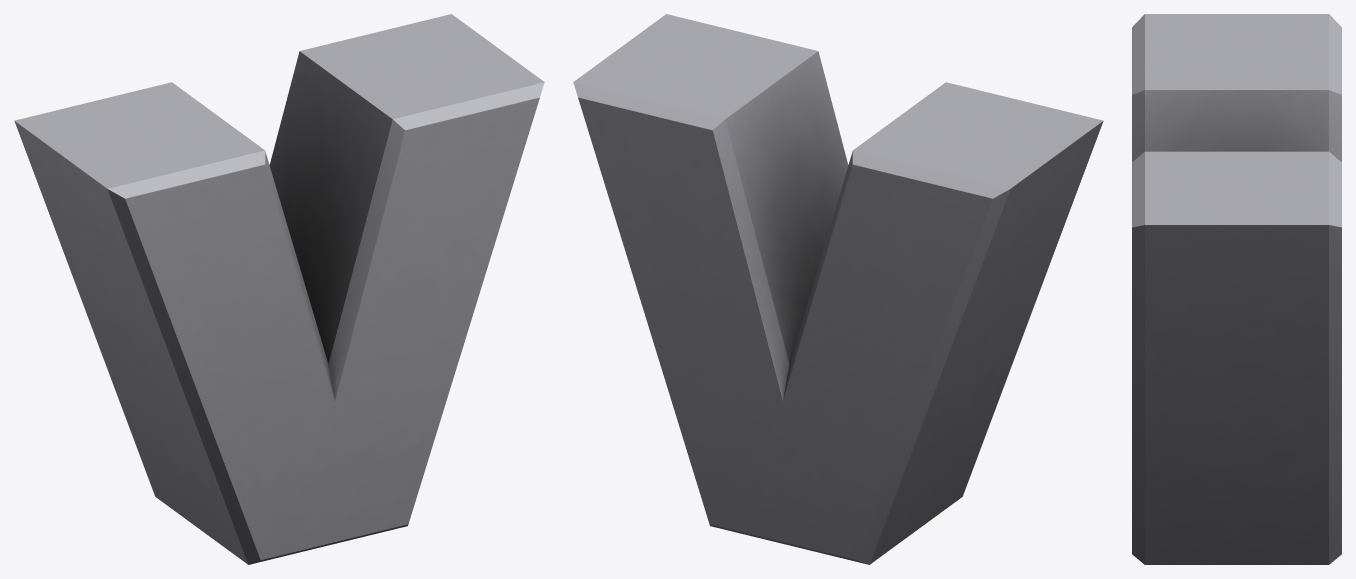
Rendered from v_lowc_static.fbx.
The picture shows the model from 3 angles, left to right: view 1: azimuth 30°, elevation 25°; view 2: azimuth 150°, elevation 25°; view 3: azimuth 270°, elevation 25°; orthographic projection.
Visible parts, largest first — view 1: v_lowc_static; view 2: v_lowc_static; view 3: v_lowc_static.
Boxes of the visible parts, x1=… form: v_lowc_static: x1=14, y1=14, x2=544, y2=564; v_lowc_static: x1=573, y1=14, x2=1103, y2=564; v_lowc_static: x1=1132, y1=14, x2=1341, y2=564.
Size of the model in its own units: 78.56 by 70.48 by 33.
